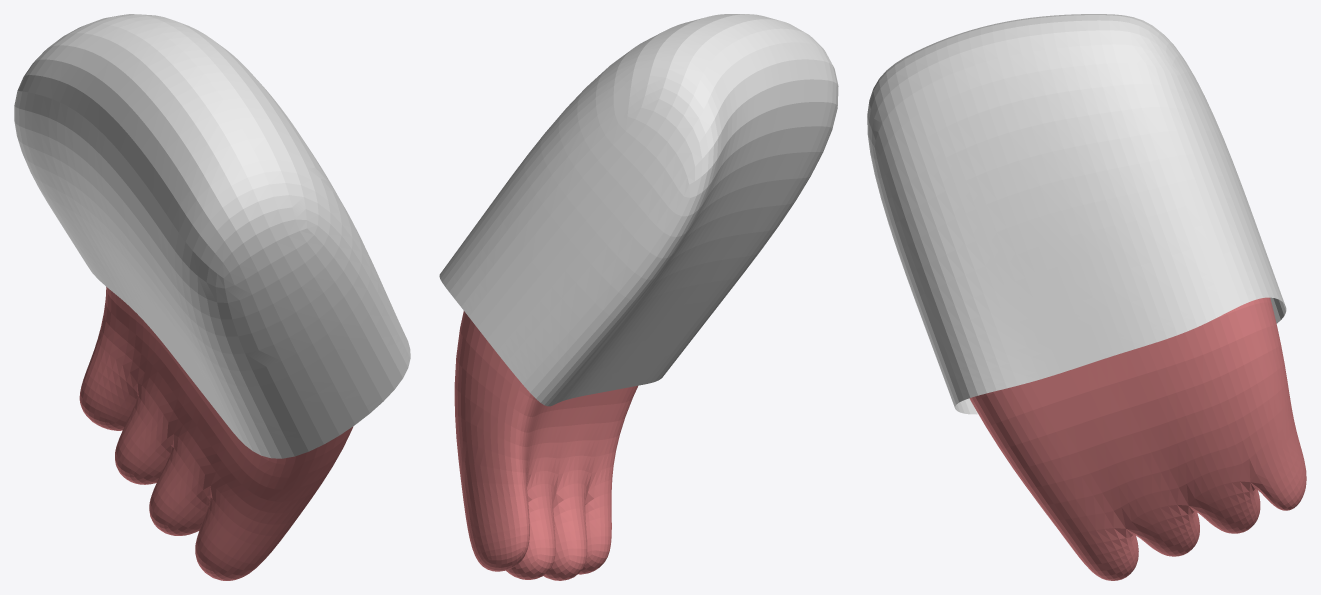
Rendered from arm11.fbx.
The picture shows the model from 3 angles, left to right: view 1: azimuth 30°, elevation 25°; view 2: azimuth 150°, elevation 25°; view 3: azimuth 270°, elevation 25°; orthographic projection. The views are drawn at different scales.
Visible parts, largest first — view 1: Cube_005, Cube_003; view 2: Cube_005, Cube_003; view 3: Cube_005, Cube_003.
Part boxes in pixels (bbox=[...]): Cube_005: bbox=[14, 14, 410, 458]; Cube_003: bbox=[79, 287, 353, 580]; Cube_005: bbox=[439, 14, 838, 406]; Cube_003: bbox=[454, 311, 637, 580]; Cube_005: bbox=[867, 14, 1286, 414]; Cube_003: bbox=[969, 297, 1306, 580].
Size of the model in its own units: 21.79 by 42.58 by 32.83.
